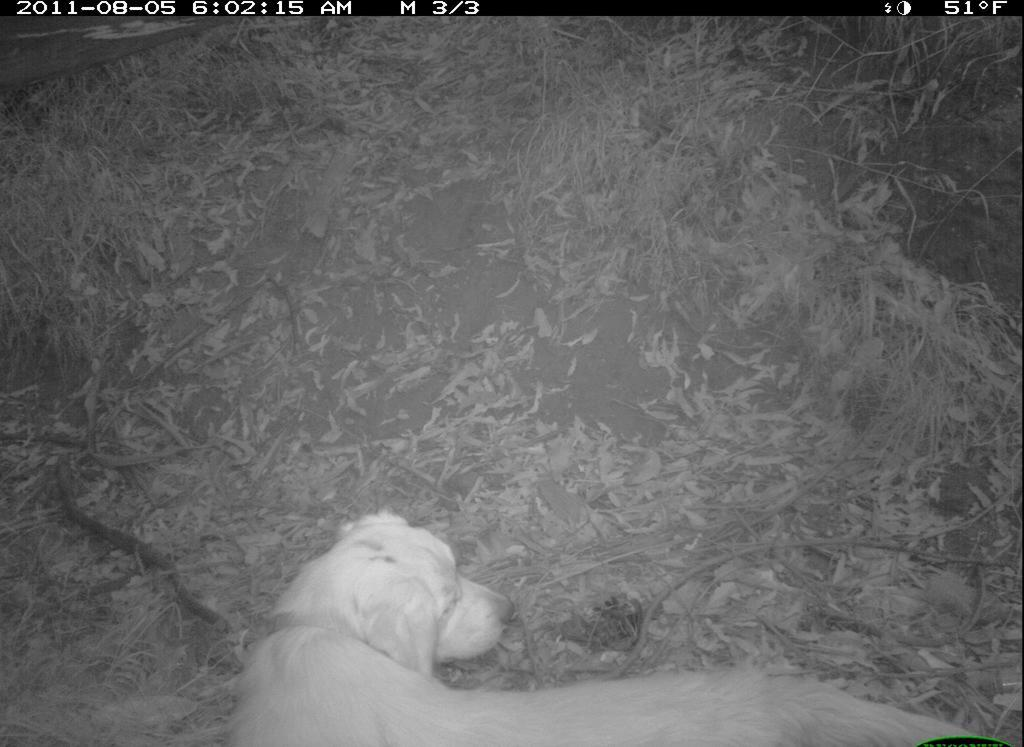dog: (204, 455, 977, 733)
